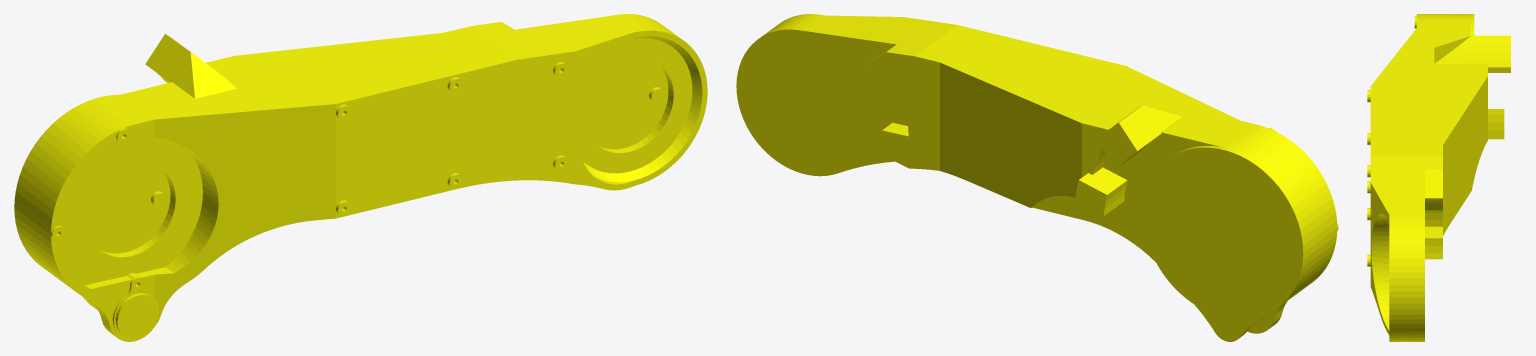
The picture shows the model from 3 angles, left to right: view 1: azimuth 30°, elevation 25°; view 2: azimuth 150°, elevation 25°; view 3: azimuth 270°, elevation 25°; orthographic projection. The views are drawn at different scales.
Parts seen in each view (by area): view 1: node; view 2: node; view 3: node.
Part boxes in pixels (bbox=[...]): node: bbox=[14, 14, 707, 341]; node: bbox=[736, 14, 1338, 341]; node: bbox=[1367, 14, 1510, 341].
Size of the model in its own units: 1431 by 517 by 381.
